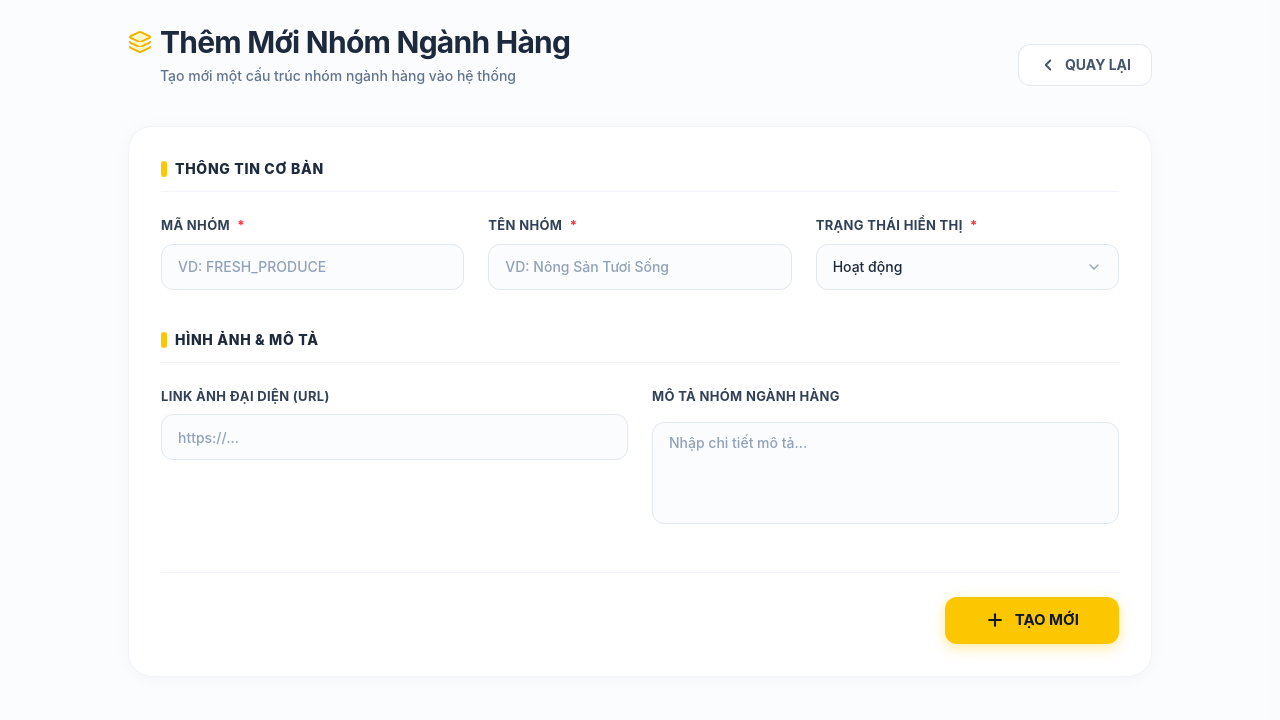
Module 04 - ProductCategoryGroupForm Component › TC03 - Báo lỗi trùng lặp mã nhóm ngay trên giao diện
Expected: the heading "Thêm Mới Nhóm Ngành Hàng" is shown, [160,24,570,60]
Nhập trùng mã FRESH_FOOD (đã có trong danh sách getAllList)
In the field with placeholder "VD: FRESH_PRODUCE": coordinates (313, 266) [161,244,464,290], type "fresh_food"
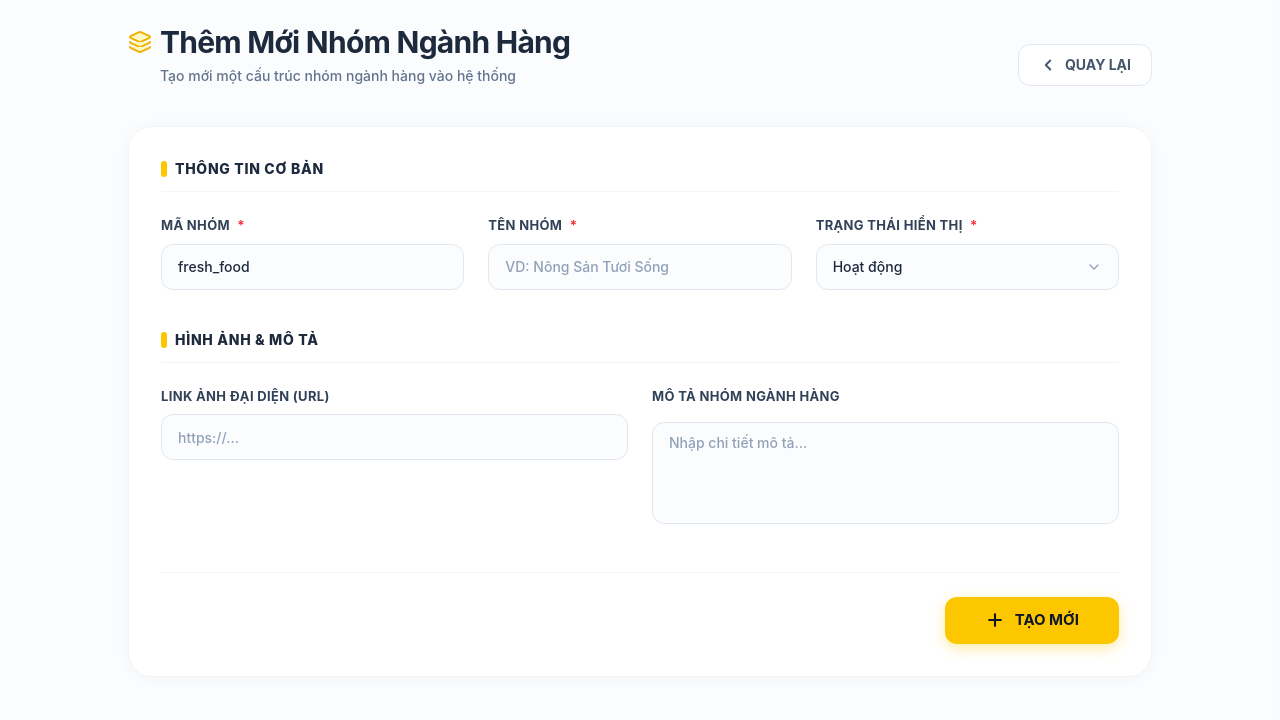
In the field with placeholder "VD: Nông Sản Tươi Sống": coordinates (640, 266) [488,244,792,290], type "Thực phẩm sạch"
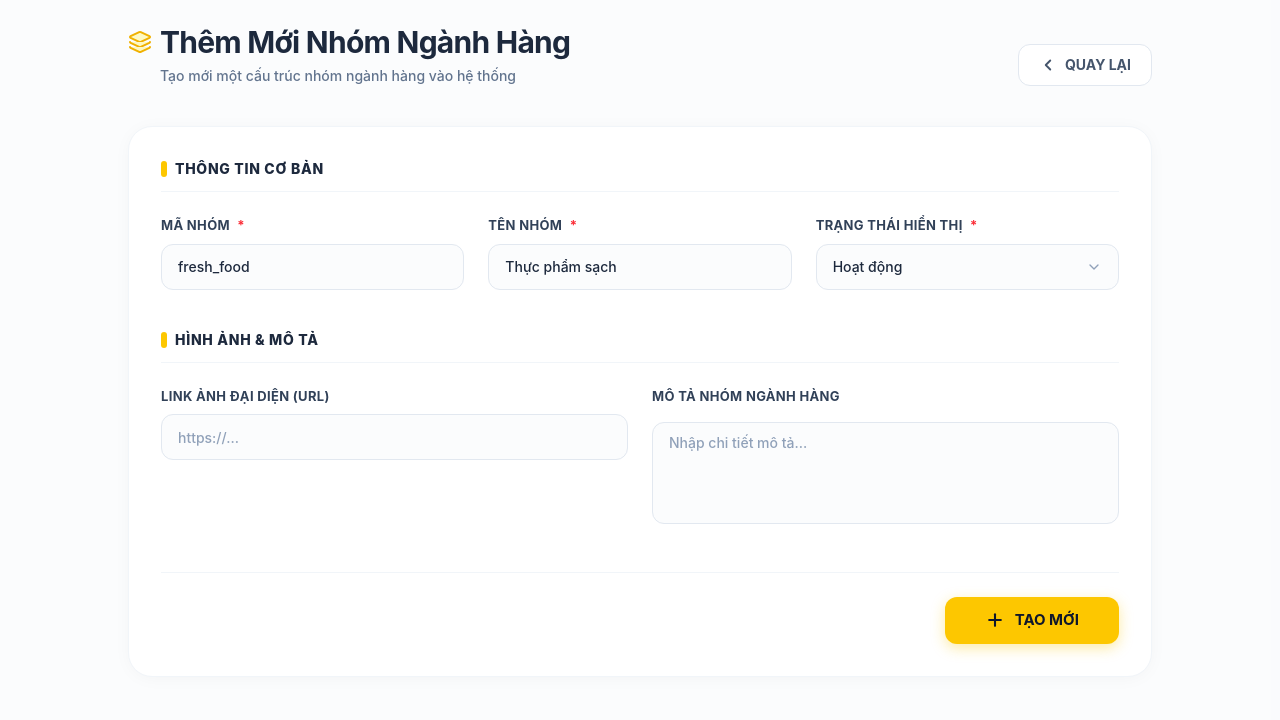
Click the button "TẠO MỚI": coordinates (1032, 620) [945,597,1119,644]
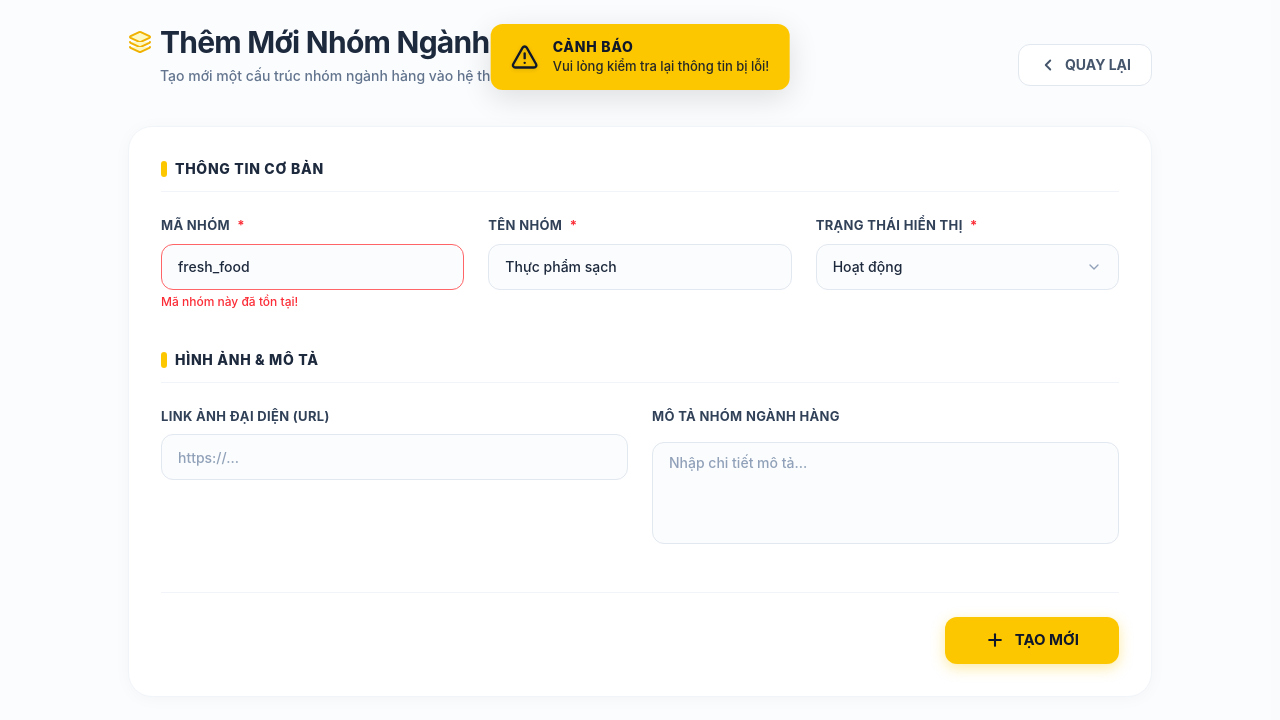
Now the text "Mã nhóm này đã tồn tại!" is shown, box [161,294,298,308]
